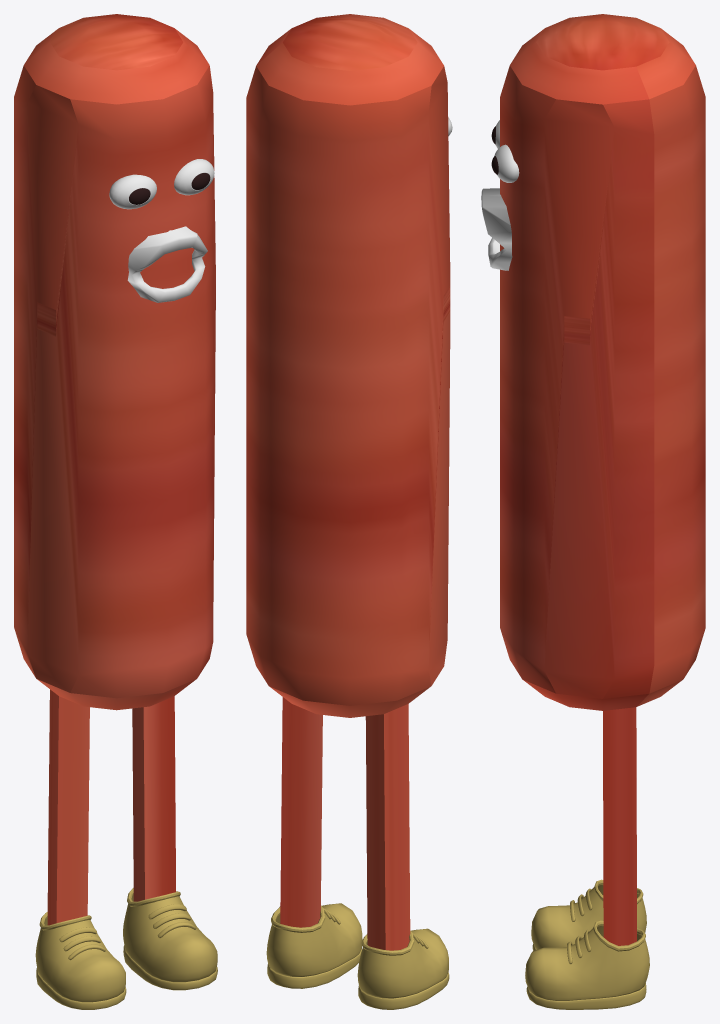
The model's file is WURST.fbx.
The picture shows the model from 3 angles, left to right: view 1: azimuth 30°, elevation 25°; view 2: azimuth 150°, elevation 25°; view 3: azimuth 270°, elevation 25°; orthographic projection.
Parts seen in each view (by area): view 1: jojojojo:pCylinder1, jojojojo:Shoes_01:Shoes_01_L_, jojojojo:Shoes_01:Shoes_01_R_, mouth, jojojojo:polySurface3, jojojojo:polySurface1; view 2: jojojojo:pCylinder1, jojojojo:Shoes_01:Shoes_01_L_, jojojojo:Shoes_01:Shoes_01_R_; view 3: jojojojo:pCylinder1, jojojojo:Shoes_01:Shoes_01_L_, jojojojo:Shoes_01:Shoes_01_R_, mouth, jojojojo:polySurface1.
Part boxes in pixels (x1=…): jojojojo:pCylinder1: x1=14, y1=14, x2=215, y2=925; jojojojo:Shoes_01:Shoes_01_L_: x1=123, y1=888, x2=217, y2=990; jojojojo:Shoes_01:Shoes_01_R_: x1=35, y1=912, x2=126, y2=1009; mouth: x1=127, y1=226, x2=207, y2=302; jojojojo:polySurface3: x1=109, y1=174, x2=156, y2=209; jojojojo:polySurface1: x1=174, y1=159, x2=214, y2=195; jojojojo:pCylinder1: x1=246, y1=14, x2=450, y2=950; jojojojo:Shoes_01:Shoes_01_L_: x1=266, y1=903, x2=362, y2=988; jojojojo:Shoes_01:Shoes_01_R_: x1=357, y1=928, x2=449, y2=1009; jojojojo:pCylinder1: x1=500, y1=14, x2=705, y2=945; jojojojo:Shoes_01:Shoes_01_L_: x1=525, y1=920, x2=649, y2=1009; jojojojo:Shoes_01:Shoes_01_R_: x1=531, y1=879, x2=646, y2=950; mouth: x1=481, y1=188, x2=512, y2=270; jojojojo:polySurface1: x1=494, y1=144, x2=519, y2=182.
Bounding box in the file's own units: 1.93 × 10.08 × 2.18.
Materials: 10 (1 with a texture image).
